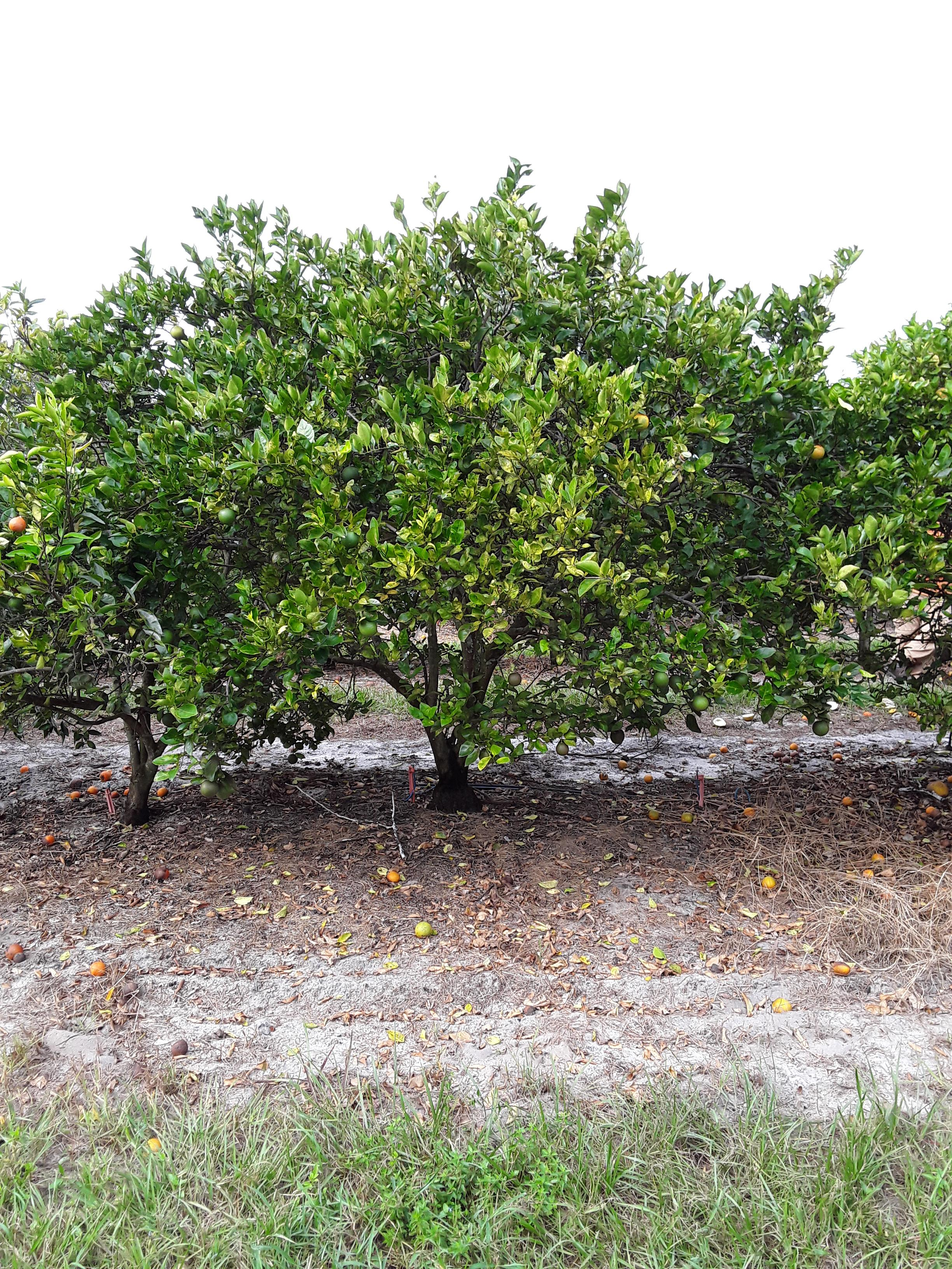fruit_on_ground: (456, 448, 479, 474), (628, 411, 651, 433), (477, 746, 501, 766), (702, 558, 723, 579), (360, 617, 379, 639), (691, 693, 712, 712), (200, 780, 220, 799), (543, 296, 562, 316), (7, 514, 29, 531), (652, 671, 671, 690), (811, 720, 831, 738), (215, 780, 233, 800), (341, 465, 360, 483), (608, 728, 626, 747), (217, 507, 237, 524), (341, 530, 361, 547), (668, 674, 686, 692), (808, 442, 825, 460), (458, 287, 477, 303), (267, 590, 284, 607), (230, 671, 248, 687), (188, 606, 205, 622), (170, 324, 186, 341), (8, 595, 26, 610), (556, 739, 571, 757), (160, 628, 175, 645), (732, 672, 749, 687), (769, 391, 785, 406), (507, 671, 523, 686), (161, 713, 177, 727), (716, 660, 730, 675), (251, 717, 266, 730), (180, 505, 195, 515), (287, 753, 299, 764), (220, 743, 231, 753)
fruit_on_tree: (769, 996, 798, 1018), (142, 1134, 166, 1158), (119, 982, 145, 1002), (167, 1040, 192, 1059), (4, 942, 26, 963), (926, 778, 950, 797), (414, 919, 435, 939), (88, 958, 108, 977), (384, 869, 403, 886), (152, 865, 170, 882), (926, 803, 942, 819), (13, 951, 28, 967), (761, 875, 778, 889), (832, 960, 849, 974), (50, 806, 67, 819), (98, 771, 116, 783), (872, 850, 887, 864), (38, 835, 56, 846), (681, 812, 695, 825), (743, 806, 758, 818), (156, 786, 170, 798), (649, 808, 661, 822), (861, 868, 875, 880), (500, 875, 514, 887), (109, 789, 122, 801), (618, 758, 630, 770), (597, 769, 609, 781), (86, 785, 100, 795), (68, 790, 83, 799), (842, 795, 854, 806), (643, 773, 654, 784), (718, 743, 730, 753), (18, 765, 31, 774), (833, 740, 845, 749), (781, 755, 793, 764), (792, 756, 802, 765), (122, 786, 131, 796), (708, 751, 719, 759), (800, 762, 809, 771), (789, 743, 800, 750), (832, 753, 843, 760), (744, 738, 754, 745), (883, 746, 891, 754), (773, 750, 782, 757)
